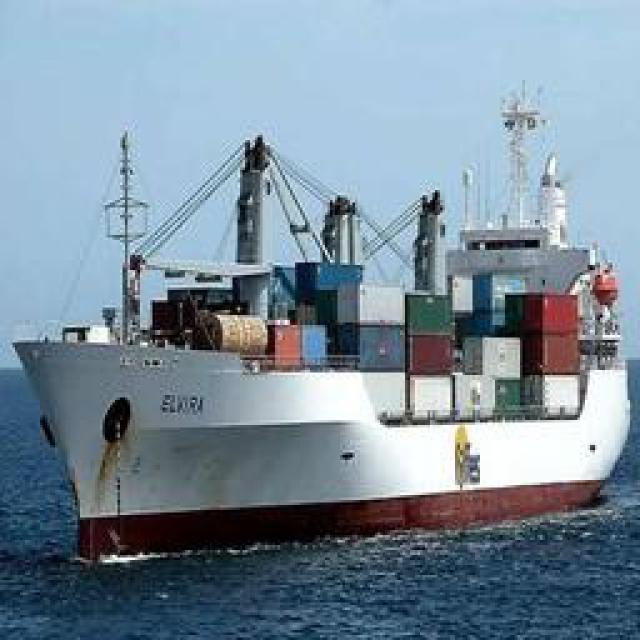Ship: (15, 82, 630, 570)
